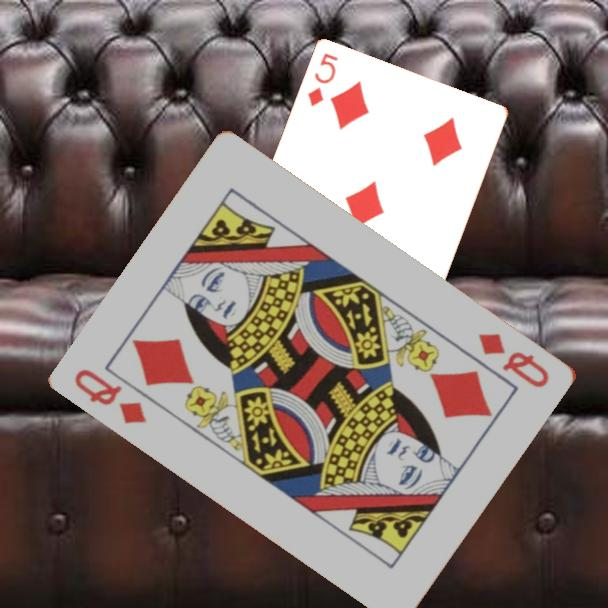d05: (304, 50, 342, 110)
d12: (71, 365, 151, 427), (475, 329, 553, 391)
